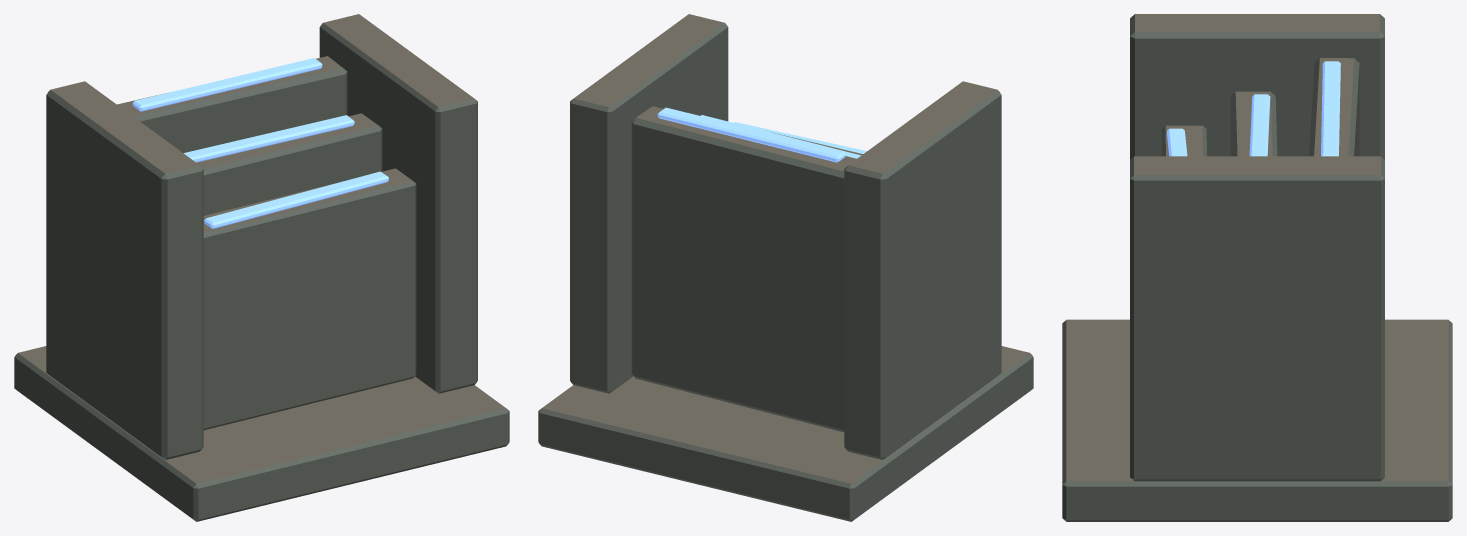
The model's file is R4X_WallDeployer_LOD1.fbx.
3 renders of one model, left to right at view 1: azimuth 30°, elevation 25°; view 2: azimuth 150°, elevation 25°; view 3: azimuth 270°, elevation 25°, orthographic. The views are drawn at different scales.
Visible parts, largest first — view 1: R4X_WallDeployer_LOD1; view 2: R4X_WallDeployer_LOD1; view 3: R4X_WallDeployer_LOD1.
Boxes of the visible parts, x1,y1,x2,y2 form: R4X_WallDeployer_LOD1: (14, 14, 509, 521); R4X_WallDeployer_LOD1: (538, 14, 1033, 521); R4X_WallDeployer_LOD1: (1062, 14, 1452, 521).
Bounding box in the file's own units: 0.52 × 0.51 × 0.52.
